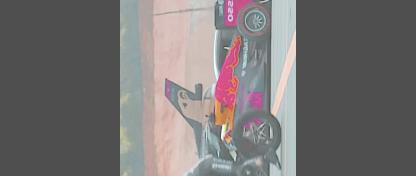F14: (163, 75, 215, 175)
